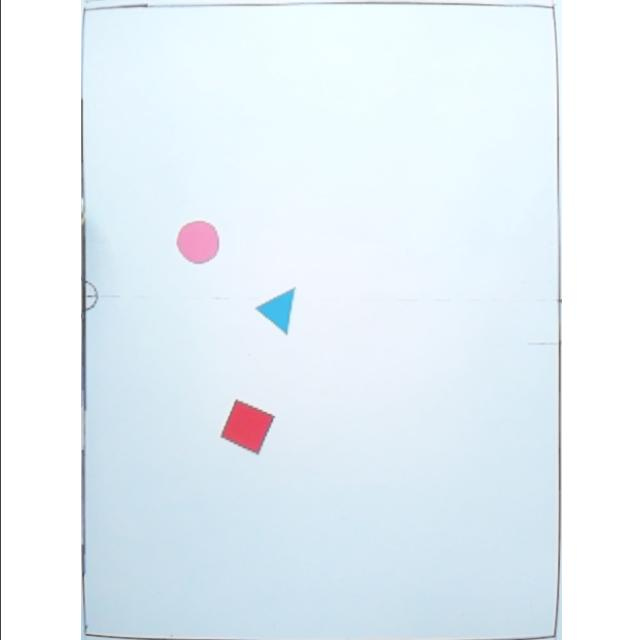blueTriangle: (251, 286, 295, 336)
pinkCircle: (172, 220, 220, 266)
redSquare: (216, 398, 276, 456)
